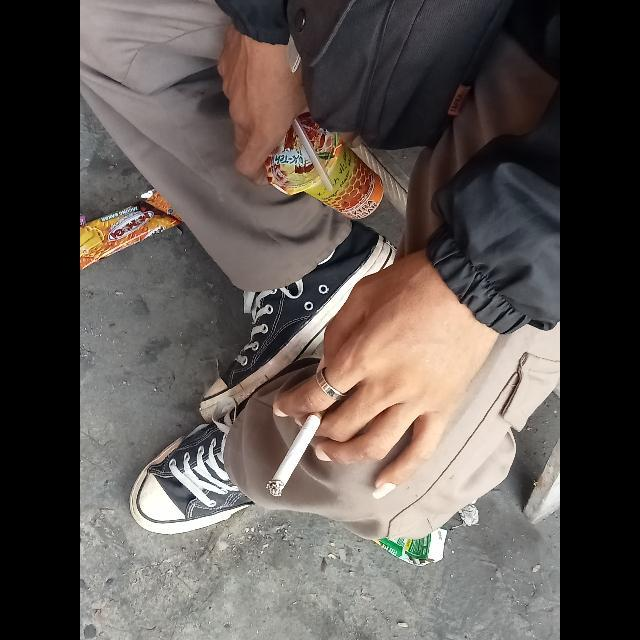rokok: (268, 410, 324, 502)
